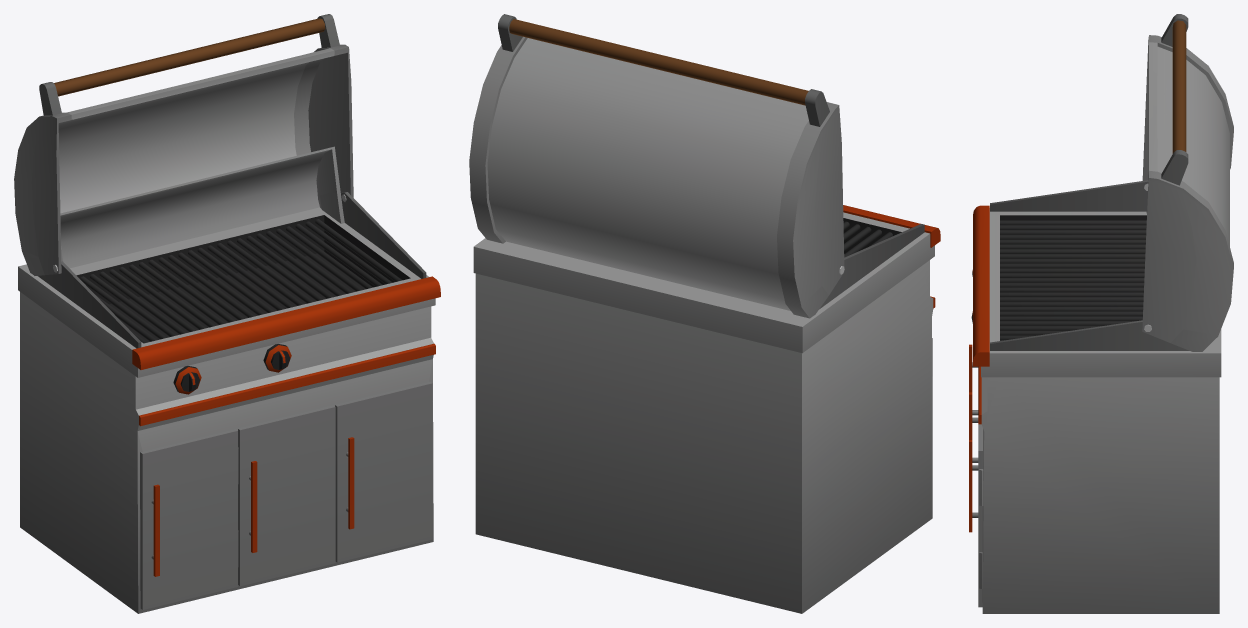
The model's file is Kitchen_Grill.fbx.
3 renders of one model, left to right at view 1: azimuth 30°, elevation 25°; view 2: azimuth 150°, elevation 25°; view 3: azimuth 270°, elevation 25°, orthographic. The views are drawn at different scales.
Visible parts, largest first — view 1: SM_Prop_Kitchen_Grill_reworked, BurgerShoot1_pCube31, Grill, BurgerShoot1_pCube32, SM_Prop_Kitchen_Grill_01_Door_01, SM_Prop_Kitchen_Grill_01_Door_03, SM_Prop_Kitchen_Grill_01_Door_02, Handle, BurgerShoot_pivot; view 2: SM_Prop_Kitchen_Grill_reworked, BurgerShoot1_pCube31, Handle, BurgerShoot_pivot, Grill; view 3: SM_Prop_Kitchen_Grill_reworked, BurgerShoot1_pCube31, Grill, BurgerShoot_pivot, Handle, SM_Prop_Kitchen_Grill_01_Door_03.
Boxes of the visible parts, box(x1,y1,x2,y2) form: SM_Prop_Kitchen_Grill_reworked: box(18, 207, 440, 613); BurgerShoot1_pCube31: box(14, 44, 353, 275); Grill: box(80, 219, 401, 343); BurgerShoot1_pCube32: box(60, 146, 344, 268); SM_Prop_Kitchen_Grill_01_Door_01: box(140, 429, 238, 609); SM_Prop_Kitchen_Grill_01_Door_03: box(335, 381, 432, 562); SM_Prop_Kitchen_Grill_01_Door_02: box(238, 405, 335, 586); Handle: box(39, 14, 339, 115); BurgerShoot_pivot: box(38, 192, 426, 348); SM_Prop_Kitchen_Grill_reworked: box(473, 205, 940, 613); BurgerShoot1_pCube31: box(469, 36, 844, 318); Handle: box(498, 14, 829, 126); BurgerShoot_pivot: box(819, 224, 924, 309); Grill: box(843, 221, 892, 257); SM_Prop_Kitchen_Grill_reworked: box(973, 205, 1221, 613); BurgerShoot1_pCube31: box(1142, 35, 1233, 351); Grill: box(1000, 220, 1146, 340); BurgerShoot_pivot: box(990, 180, 1189, 350); Handle: box(1161, 14, 1188, 185); SM_Prop_Kitchen_Grill_01_Door_03: box(969, 424, 983, 607).
Size of the model in its own units: 101 by 147 by 77.08.
Materials: 1 (1 with a texture image).
